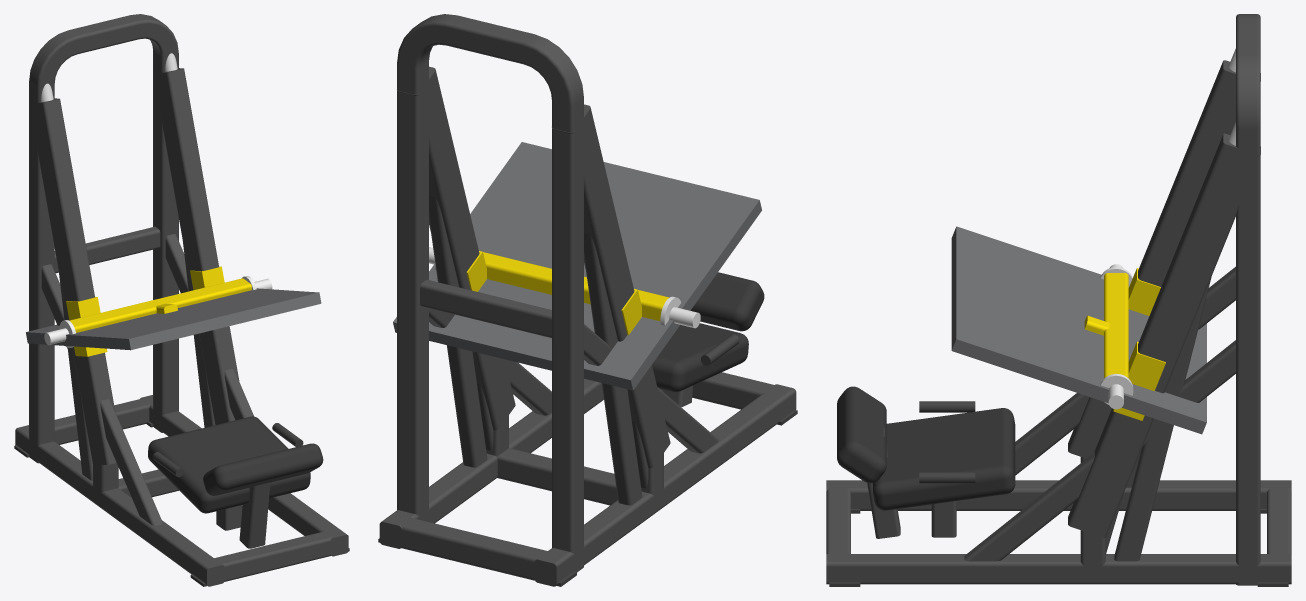
3 renders of one model, left to right at view 1: azimuth 30°, elevation 25°; view 2: azimuth 150°, elevation 25°; view 3: azimuth 270°, elevation 25°, orthographic. The views are drawn at different scales.
Visible parts, largest first — view 1: rail_beam (×2), rear_arch_tube, base, frame, foot_plate, seat_pad, backrest_pad, carriage_beam, rear_tie, backrest, carriage_slider (×2), seat (+1 smaller); view 2: rear_arch_tube, foot_plate, base, frame, rail_beam (×2), seat_pad, rear_tie, backrest_pad, carriage_beam, carriage_slider (×2), plate_horn; view 3: rail_beam (×2), foot_plate, base, frame, rear_arch_tube, seat_pad, backrest_pad, carriage_beam, carriage_slider (×2), side_handle (×2), backrest, seat (+1 smaller).
Boxes of the visible parts, bbox=[...] form: rail_beam (×2): bbox=[29, 68, 239, 464]; rear_arch_tube: bbox=[29, 14, 178, 463]; base: bbox=[14, 395, 349, 586]; frame: bbox=[41, 234, 253, 525]; foot_plate: bbox=[26, 288, 321, 350]; seat_pad: bbox=[148, 416, 310, 513]; backrest_pad: bbox=[203, 443, 323, 495]; carriage_beam: bbox=[69, 278, 251, 332]; rear_tie: bbox=[54, 226, 160, 273]; backrest: bbox=[239, 482, 270, 548]; carriage_slider (×2): bbox=[66, 266, 224, 356]; seat: bbox=[216, 505, 242, 530]; rear_arch_tube: bbox=[397, 14, 583, 572]; foot_plate: bbox=[393, 142, 761, 390]; base: bbox=[378, 372, 797, 586]; frame: bbox=[429, 195, 719, 505]; rail_beam (×2): bbox=[397, 66, 670, 468]; seat_pad: bbox=[652, 323, 748, 392]; rear_tie: bbox=[420, 279, 551, 337]; backrest_pad: bbox=[690, 272, 764, 331]; carriage_beam: bbox=[483, 252, 669, 321]; carriage_slider (×2): bbox=[466, 251, 641, 335]; plate_horn: bbox=[660, 296, 700, 328]; rail_beam (×2): bbox=[1068, 60, 1260, 537]; foot_plate: bbox=[951, 226, 1206, 434]; base: bbox=[826, 480, 1291, 586]; frame: bbox=[964, 266, 1235, 573]; rear_arch_tube: bbox=[1236, 14, 1260, 585]; seat_pad: bbox=[873, 408, 1015, 510]; backrest_pad: bbox=[837, 386, 886, 483]; carriage_beam: bbox=[1104, 273, 1128, 378]; carriage_slider (×2): bbox=[1113, 268, 1165, 420]; side_handle (×2): bbox=[919, 401, 975, 483]; backrest: bbox=[867, 428, 900, 538]; seat: bbox=[931, 501, 956, 537].
Size of the model in its own units: 1 by 1.8 by 1.5.
